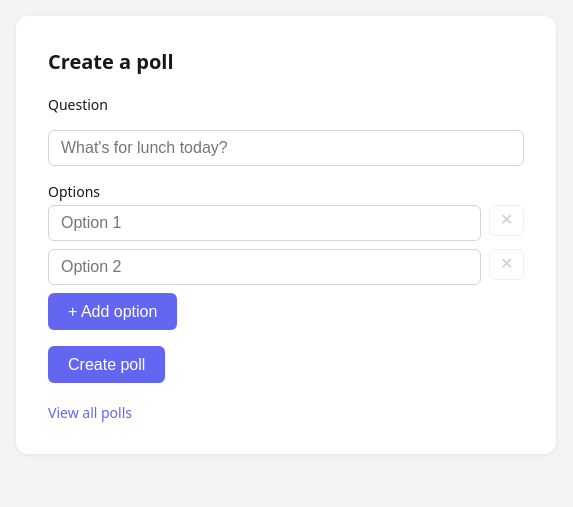
Test: CreatePollForm › shows an error when fewer than 2 options are filled in
The image size is (573, 507).
Type "What is the best food?" into the field labelled "Question" at {"x": 286, "y": 148}, box [48,130,524,166]
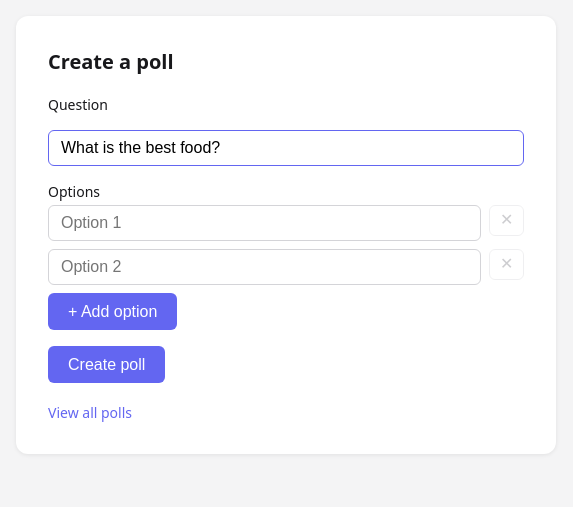
# Leave both options blank
Click the button "Create poll" at {"x": 107, "y": 365}, box [48,346,165,383]
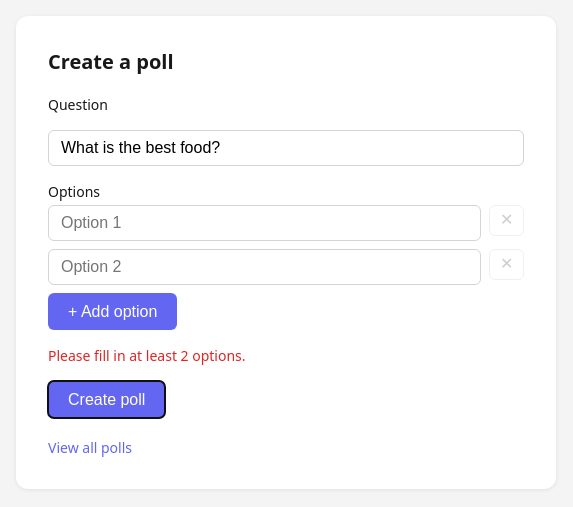
Expected: the text "Please fill in at least 2 options." is shown, [48,346,246,365]
